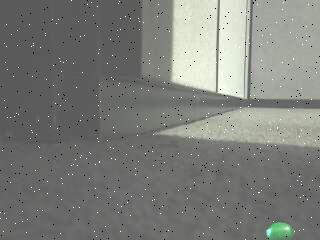Lime: (264, 221, 297, 240)
